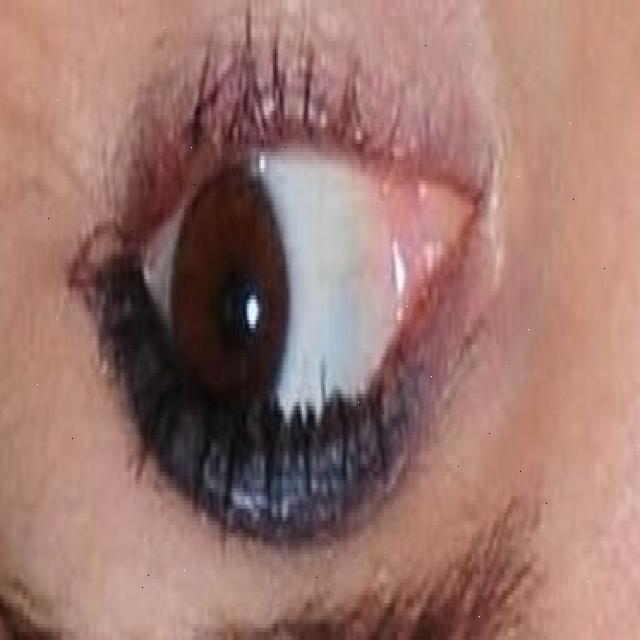Normal: (169, 164, 291, 461)
